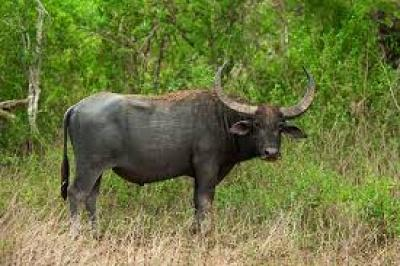buffalo: (60, 79, 316, 239)
